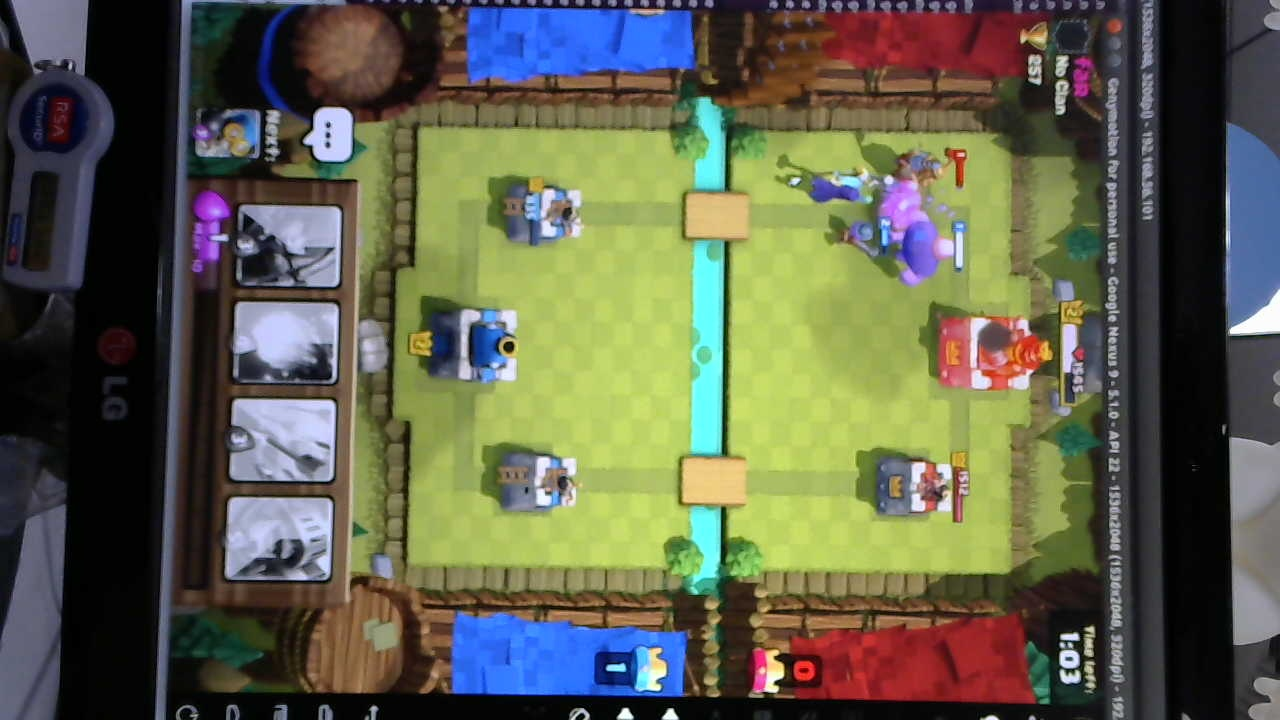arena: (494, 450, 583, 515), (502, 180, 584, 246)
earena: (869, 454, 954, 520)
eking: (940, 307, 1044, 393)
giant: (884, 200, 950, 279)
king: (434, 304, 524, 388)
musketeer: (833, 220, 883, 260)
prince: (898, 146, 948, 189)
witch: (804, 170, 873, 207)
